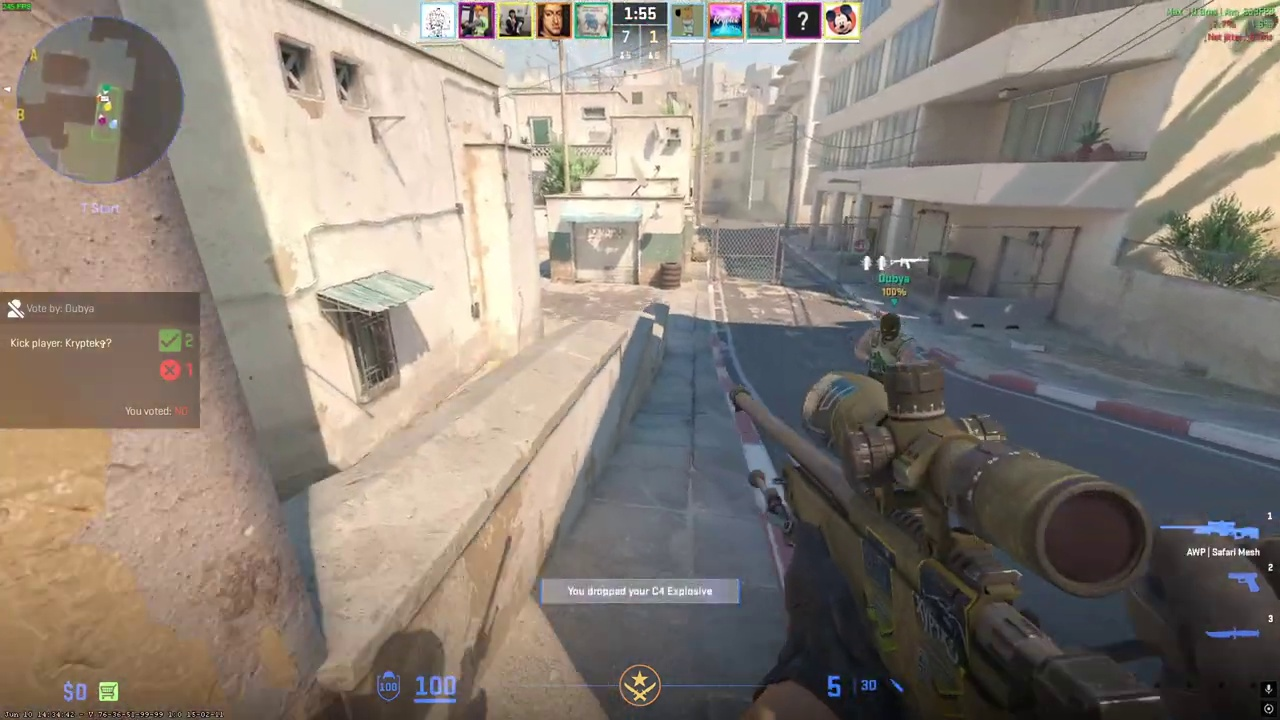Terrorist: (862, 312, 916, 385)
